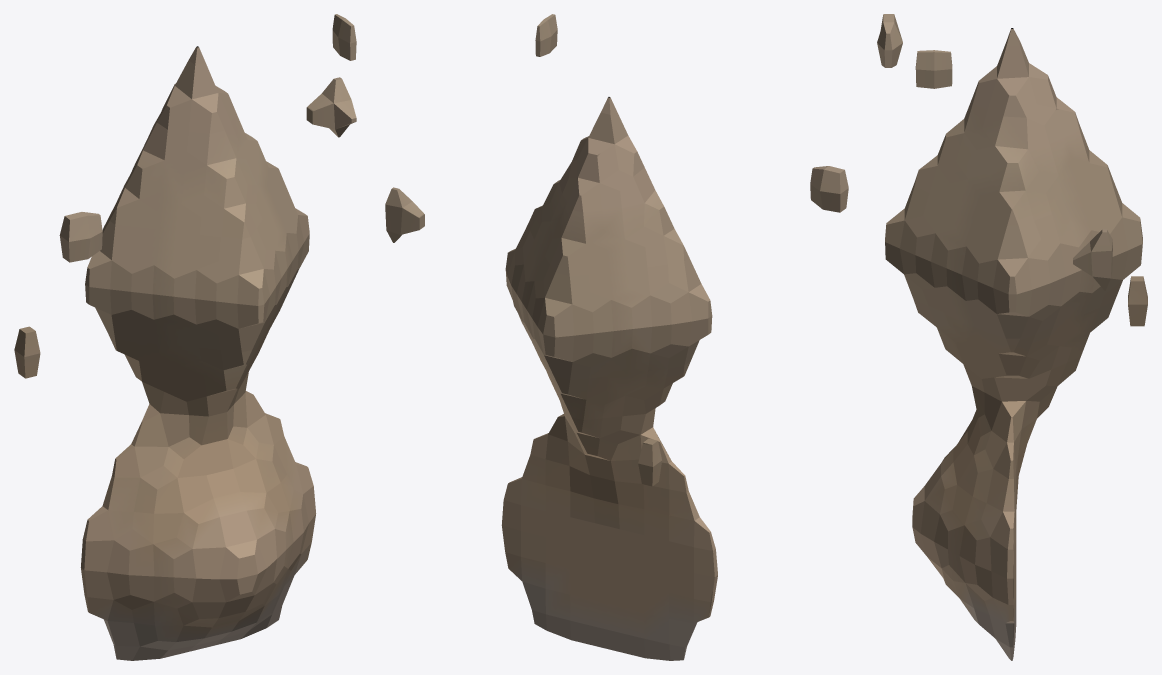
Rendered from earthElemental.glb.
3 renders of one model, left to right at view 1: azimuth 30°, elevation 25°; view 2: azimuth 150°, elevation 25°; view 3: azimuth 270°, elevation 25°, orthographic. The views are drawn at different scales.
Visible parts, largest first — view 1: geometry_0; view 2: geometry_0; view 3: geometry_0.
Part boxes in pixels (box(x1,y1,x2,y2)): geometry_0: box(14, 14, 356, 660); geometry_0: box(385, 14, 848, 660); geometry_0: box(877, 14, 1147, 660).
Bounding box in the file's own units: 0.6023 × 0.9325 × 0.3635.
1 material, 1 textured.
